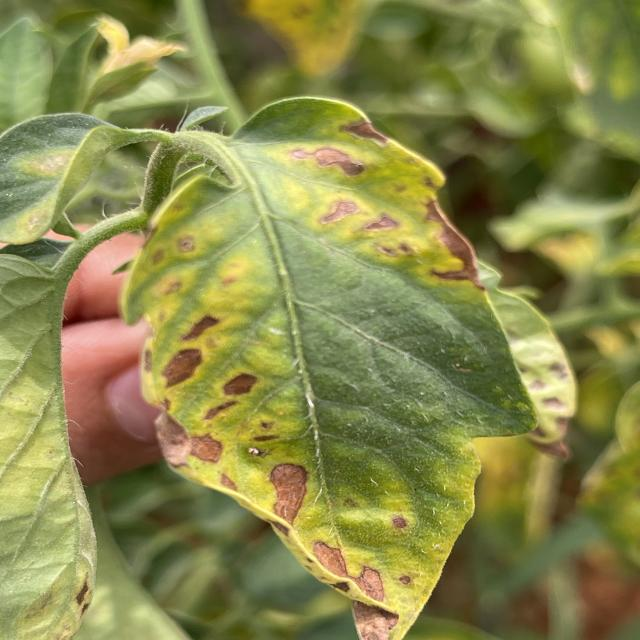tomato_early blight: (121, 96, 535, 640), (0, 249, 97, 640)
